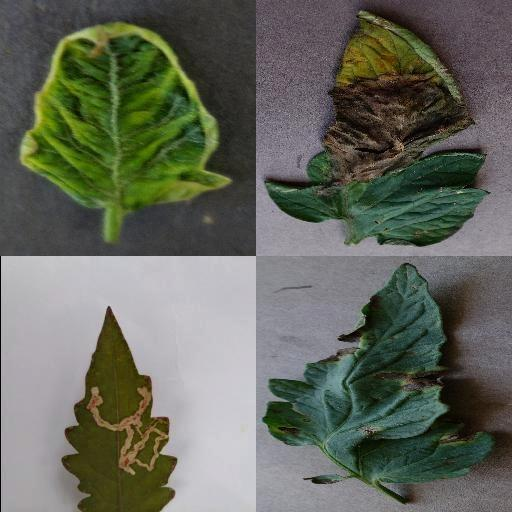Early Blight: (264, 263, 496, 483)
Late Blight: (263, 9, 491, 247)
Leaf Miner: (59, 303, 179, 512)
Yellow Leaf Curl Virus: (18, 22, 233, 212)
